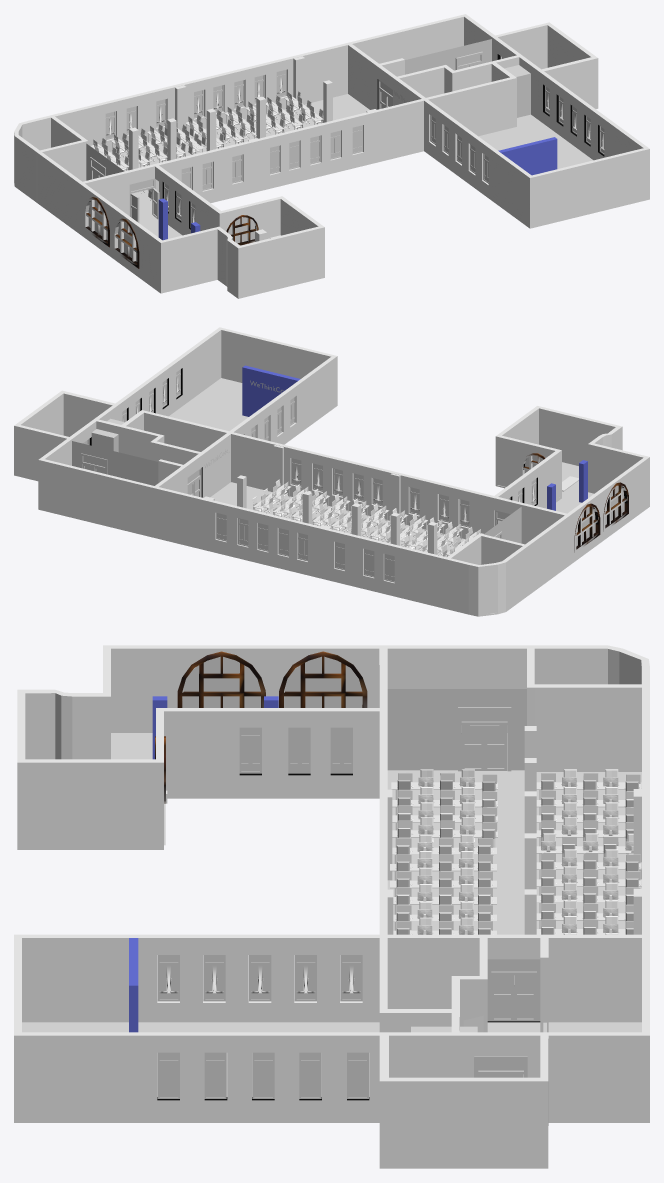
Rendered from layout.fbx.
3 renders of one model, top to bottom at view 1: azimuth 30°, elevation 25°; view 2: azimuth 150°, elevation 25°; view 3: azimuth 270°, elevation 25°, orthographic. The views are drawn at different scales.
Visible parts, largest first — view 1: Floor, windows, Colums, chairs, WTC WALL, glass, Tables, Glass, archwin02, archwin, Cube, keyboards and mice (+3 smaller); view 2: Floor, windows, Colums, chairs, glass, WTC WALL, Tables, archwin02, archwin, Glass, mac3, Cube (+2 smaller); view 3: Floor, Colums, windows, chairs, glass, Tables, mac3, Glass, mac2, mac1, archwin02, archwin (+9 smaller).
Boxes of the visible parts, x1,y1,x2,y2 form: Floor: (14, 14, 649, 298); windows: (105, 69, 604, 227); Colums: (110, 94, 592, 238); chairs: (94, 91, 323, 200); WTC WALL: (158, 137, 557, 240); glass: (86, 39, 491, 180); Tables: (90, 97, 323, 170); Glass: (88, 200, 255, 261); archwin02: (84, 197, 109, 247); archwin: (113, 218, 139, 268); Cube: (504, 65, 530, 117); keyboards and mice: (97, 96, 319, 166); Floor: (14, 327, 649, 616); windows: (122, 369, 536, 582); Colums: (169, 378, 593, 613); chairs: (252, 479, 476, 557); glass: (72, 441, 521, 543); WTC WALL: (242, 365, 587, 510); Tables: (253, 484, 483, 556); archwin02: (574, 503, 600, 552); archwin: (603, 482, 628, 531); Glass: (524, 455, 624, 546); mac3: (261, 482, 480, 548); Cube: (91, 418, 124, 452); Floor: (14, 645, 649, 1168); Colums: (22, 733, 641, 1096); windows: (157, 727, 368, 1098); chairs: (396, 769, 638, 934); glass: (387, 689, 526, 770); Tables: (390, 782, 641, 934); mac3: (397, 772, 618, 934); Glass: (182, 656, 362, 707); mac2: (439, 772, 640, 929); mac1: (417, 777, 576, 934); archwin02: (279, 651, 367, 707); archwin: (177, 651, 265, 707).
Size of the model in its own units: 643 by 61.3 by 396.
